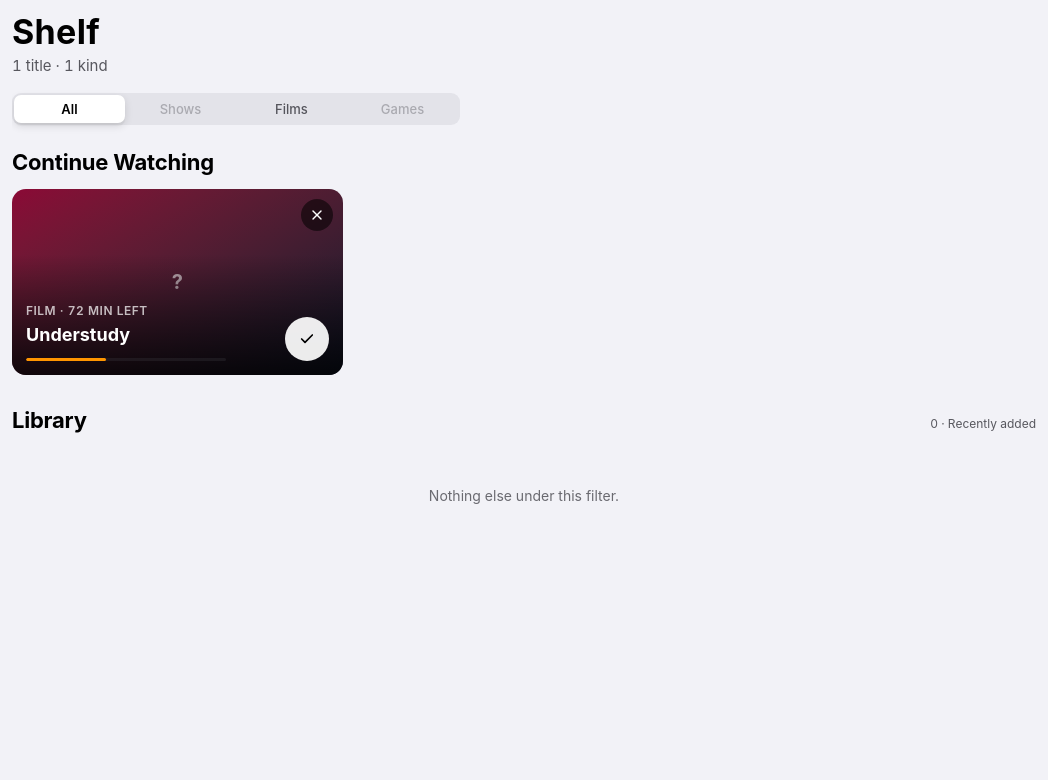
Test: ShelfPage › Continue Watching › takes the card off at once when the watch is queued offline
Click the button named "Mark Understudy watched": click(307, 339) [285,317,329,361]
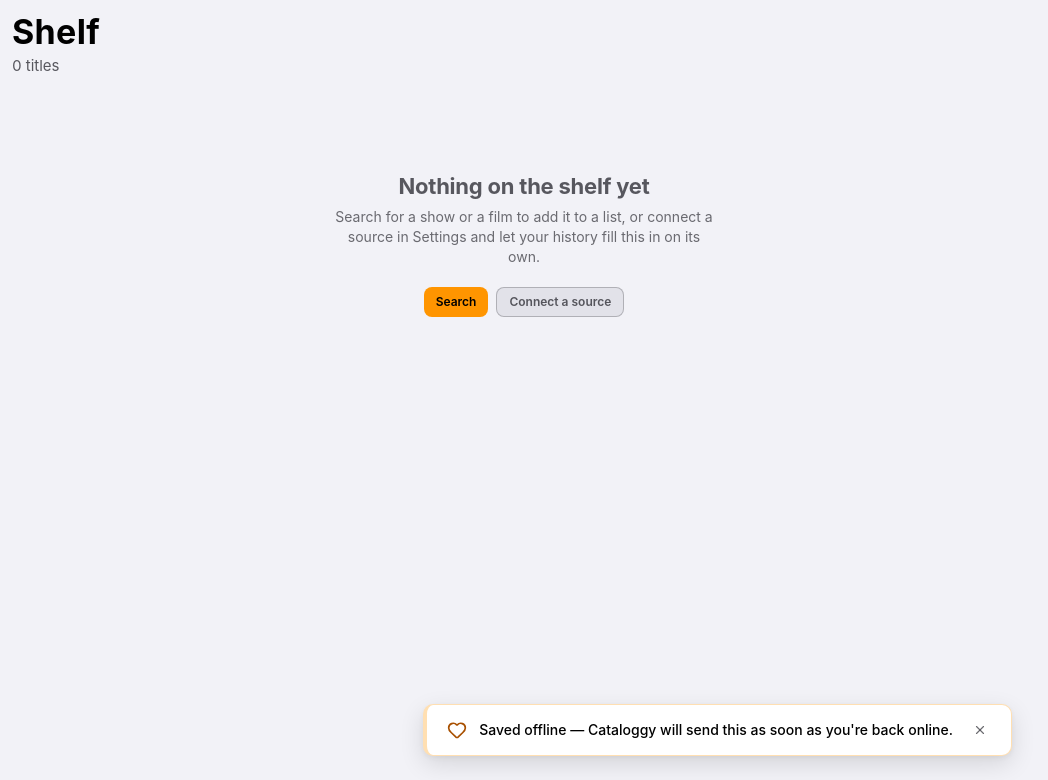
Check: the heading "Continue Watching" is gone
Check: the text "Saved offline" is shown, box [479,721,953,738]
